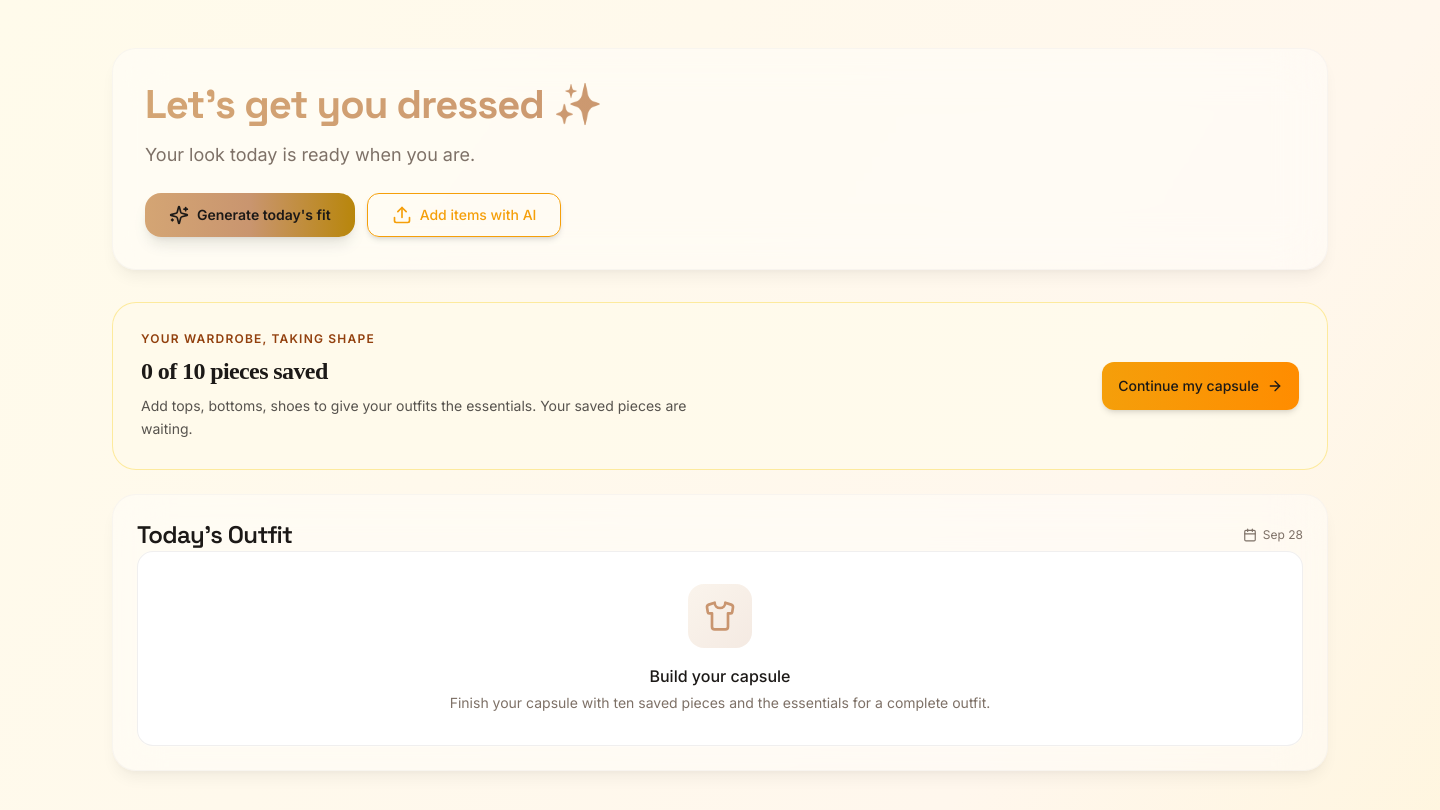
Test: keeps the dialog open during wardrobe work before a selected photo is queued
This screenshot has width=1440, height=810.
Click the button "Add items with AI": (464, 215) [367,193,561,237]
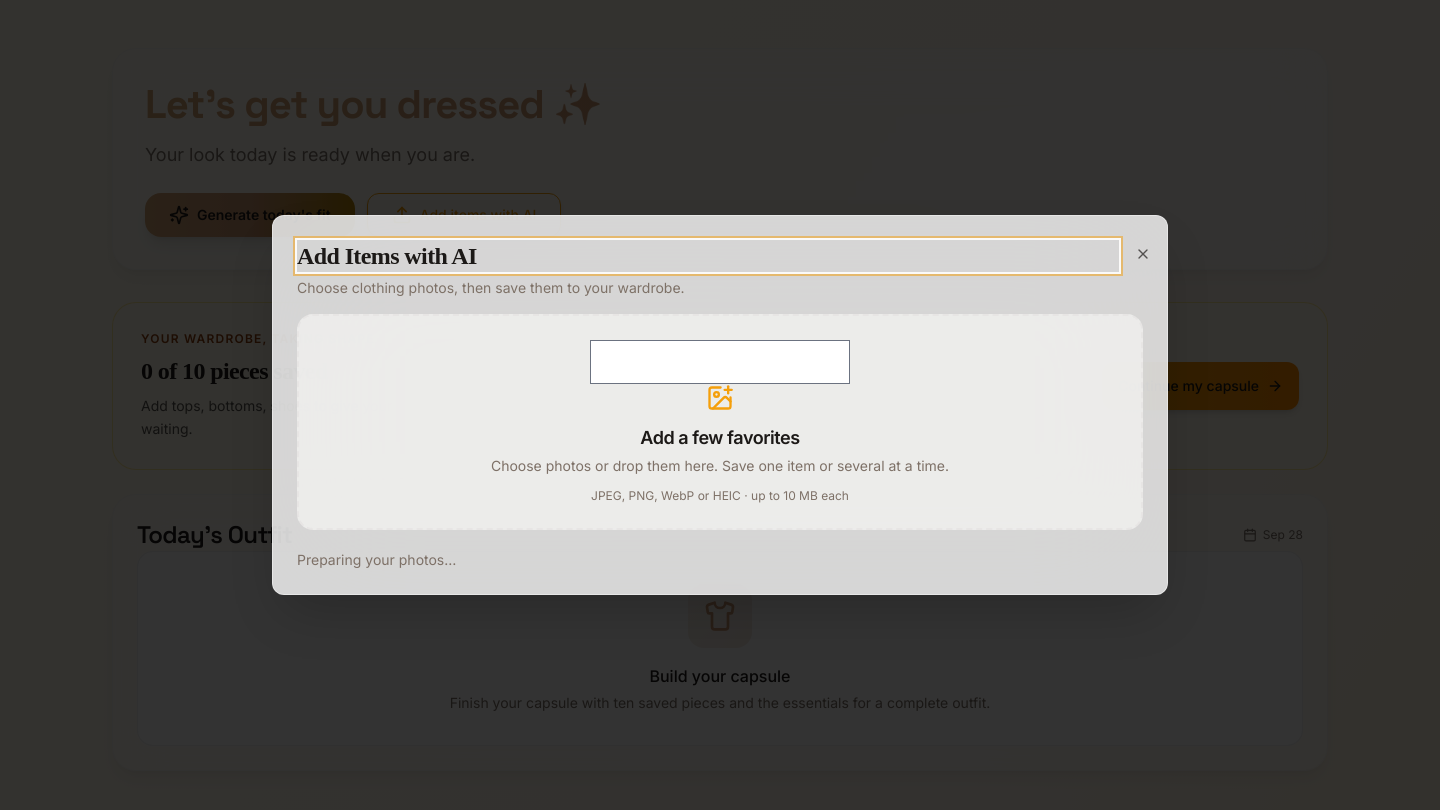
Press Escape
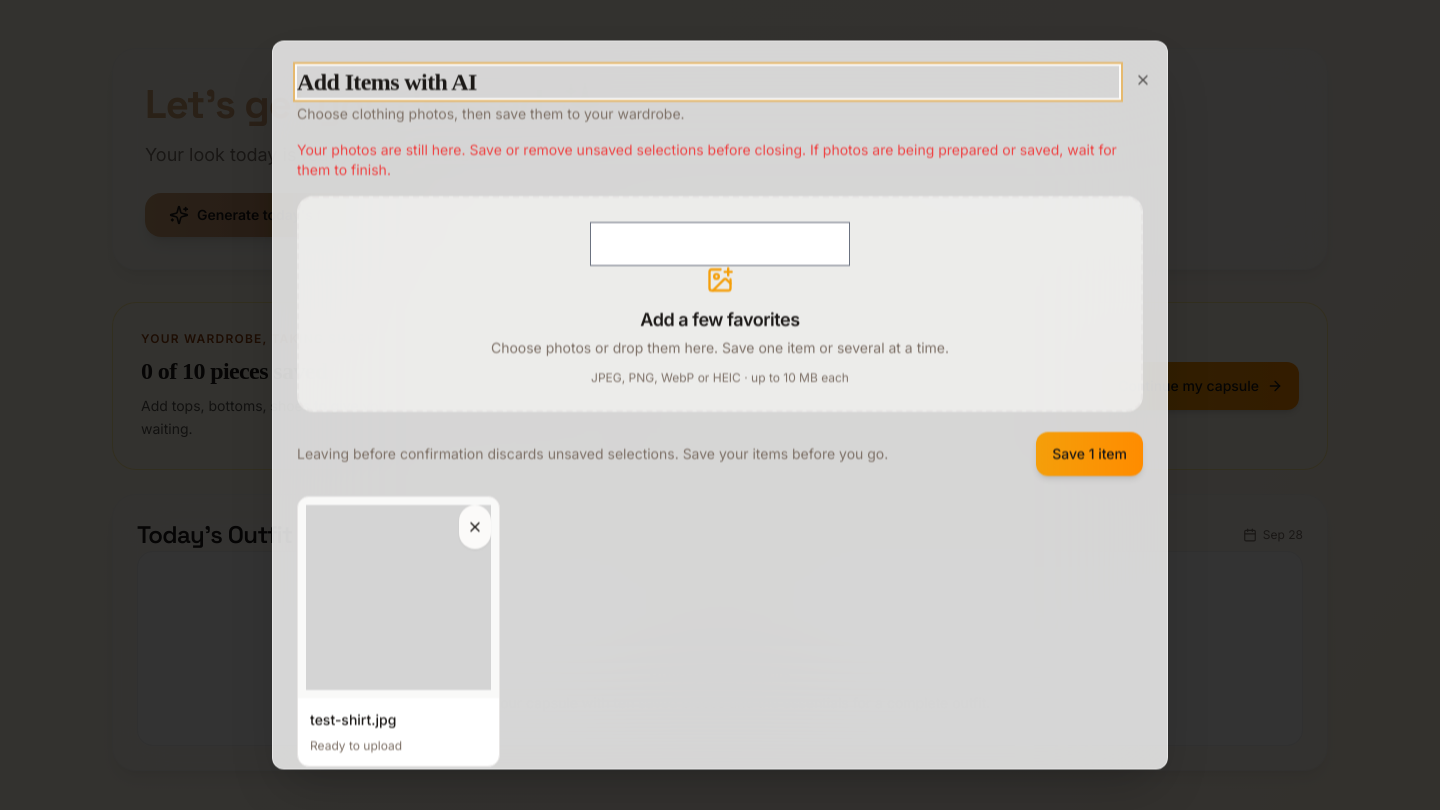
Expected: the 1st message shows "photos are still here", [297,140,1117,178]
Expected: the text "test-shirt.jpg" is shown, [310,710,396,727]
